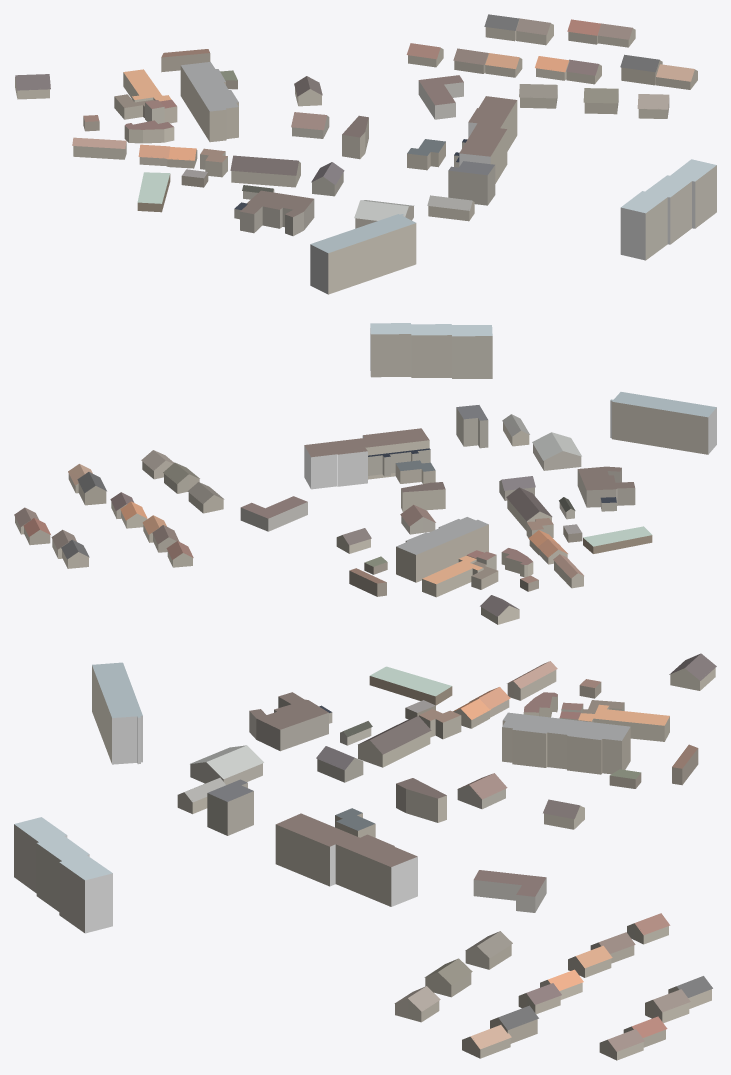
The picture shows the model from 3 angles, top to bottom: view 1: azimuth 30°, elevation 25°; view 2: azimuth 150°, elevation 25°; view 3: azimuth 270°, elevation 25°; orthographic projection. The views are drawn at different scales.
Parts seen in each view (by area): view 1: tuile; view 2: tuile; view 3: tuile.
Boxes of the visible parts, <box> form: tuile: <box>15,14,716,294</box>; tuile: <box>14,323,716,624</box>; tuile: <box>14,653,716,1060</box>.
Size of the model in its own units: 266 by 37.24 by 239.
